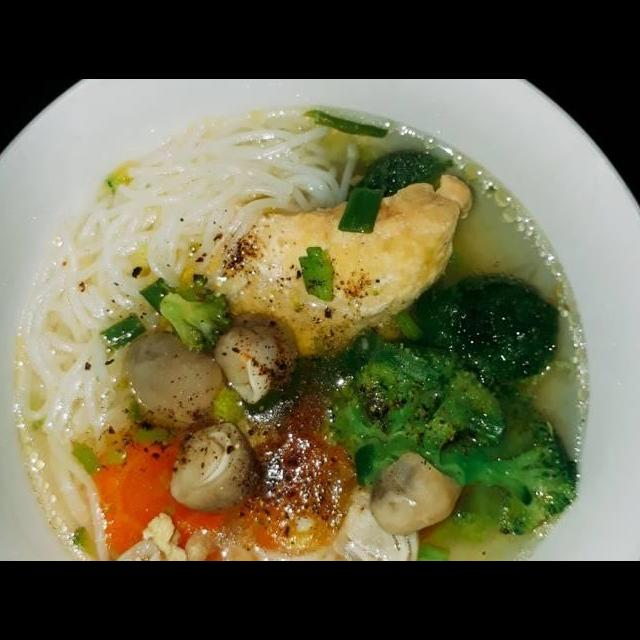bun: (0, 102, 368, 441)
